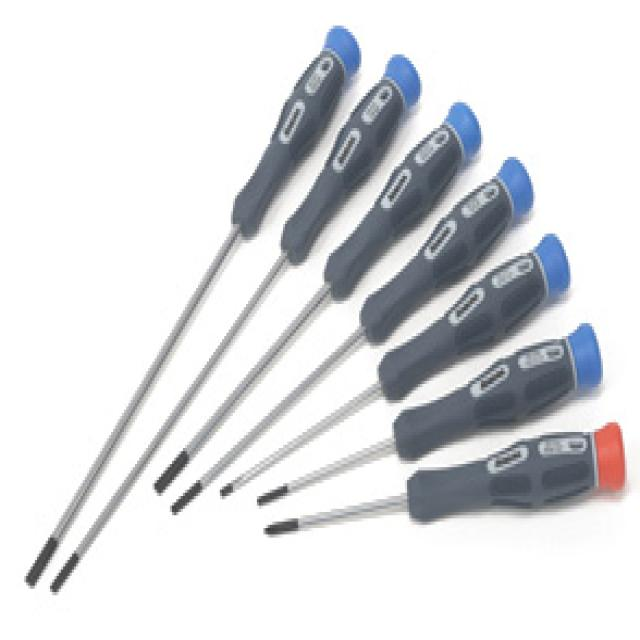screw driver: (256, 422, 637, 555)
